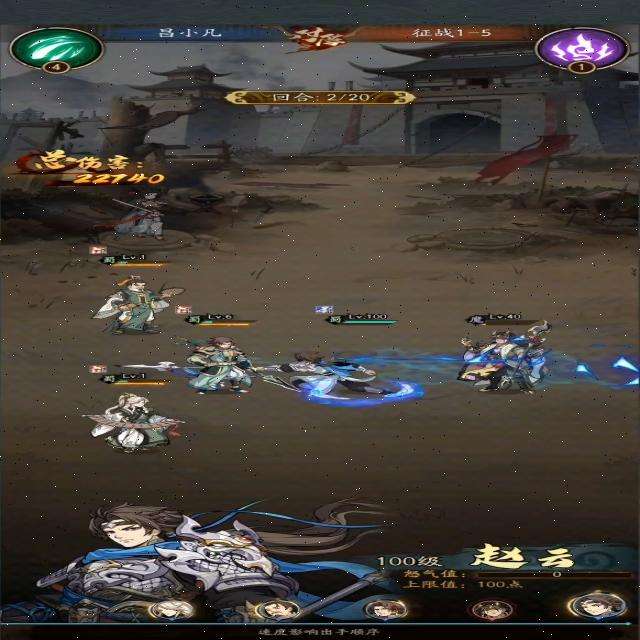hint-guide: (252, 626, 394, 638)
